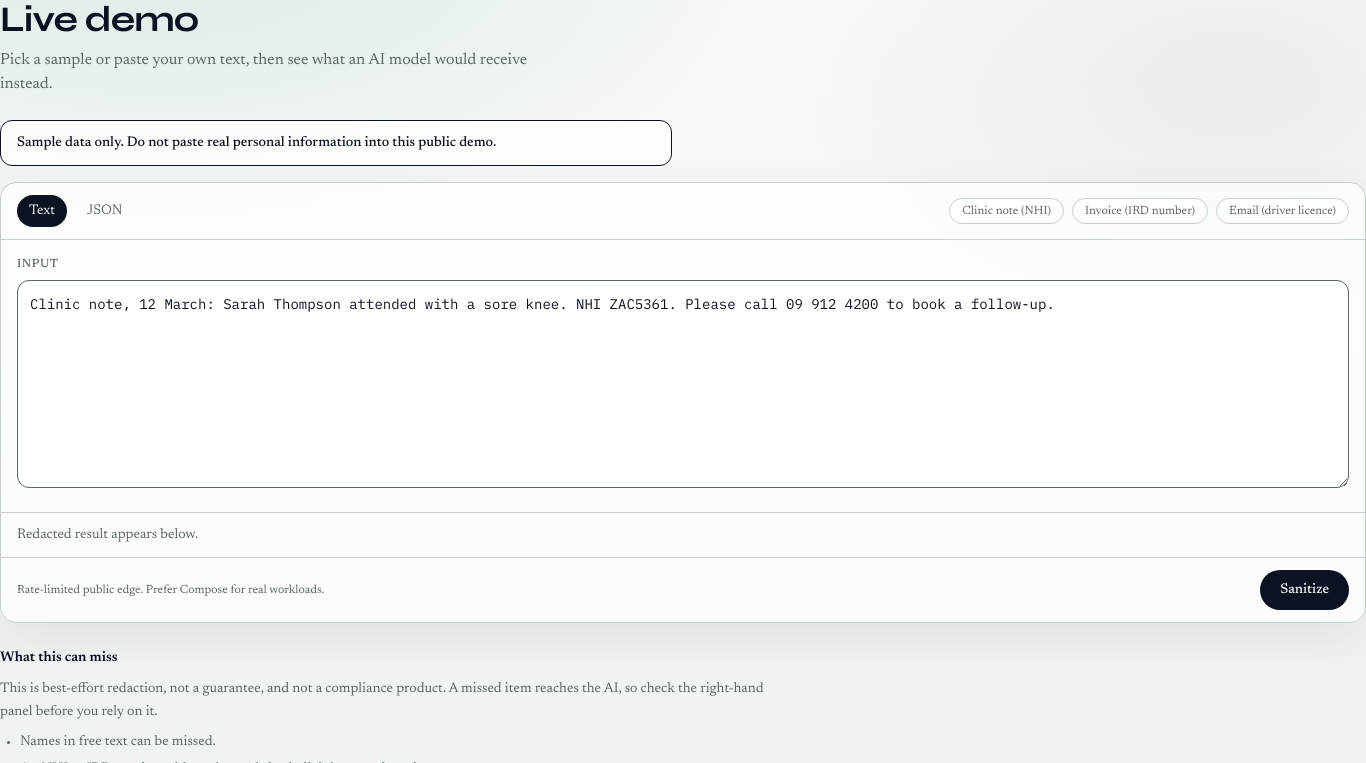
Test: Playground › shows both panels and announces what was removed on success
Replace the text in the text box labelled "Input" with "Clinic note, 12 March: Sarah Thompson attended." at (683, 384), box left=17, top=280, right=1349, bottom=488
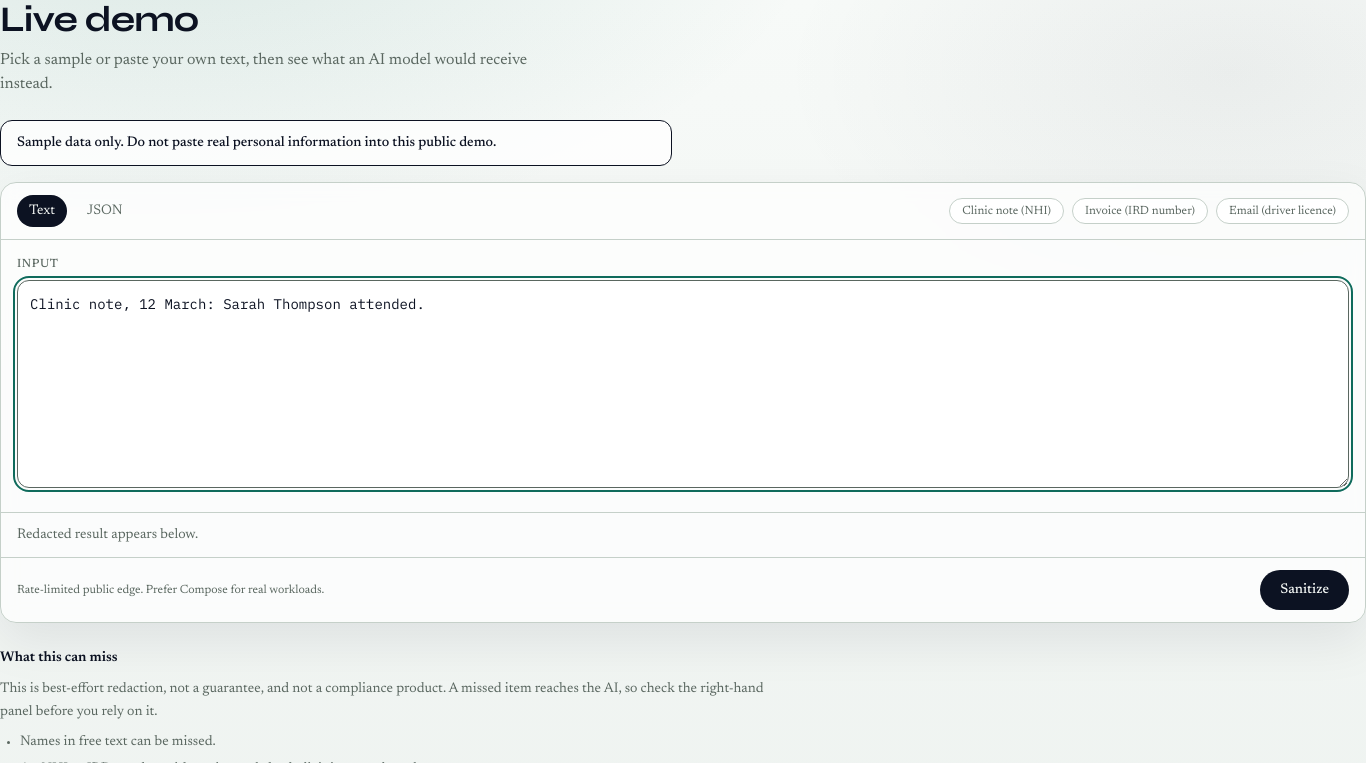
Click the button "Sanitize" at (1305, 590), box left=1260, top=570, right=1349, bottom=610
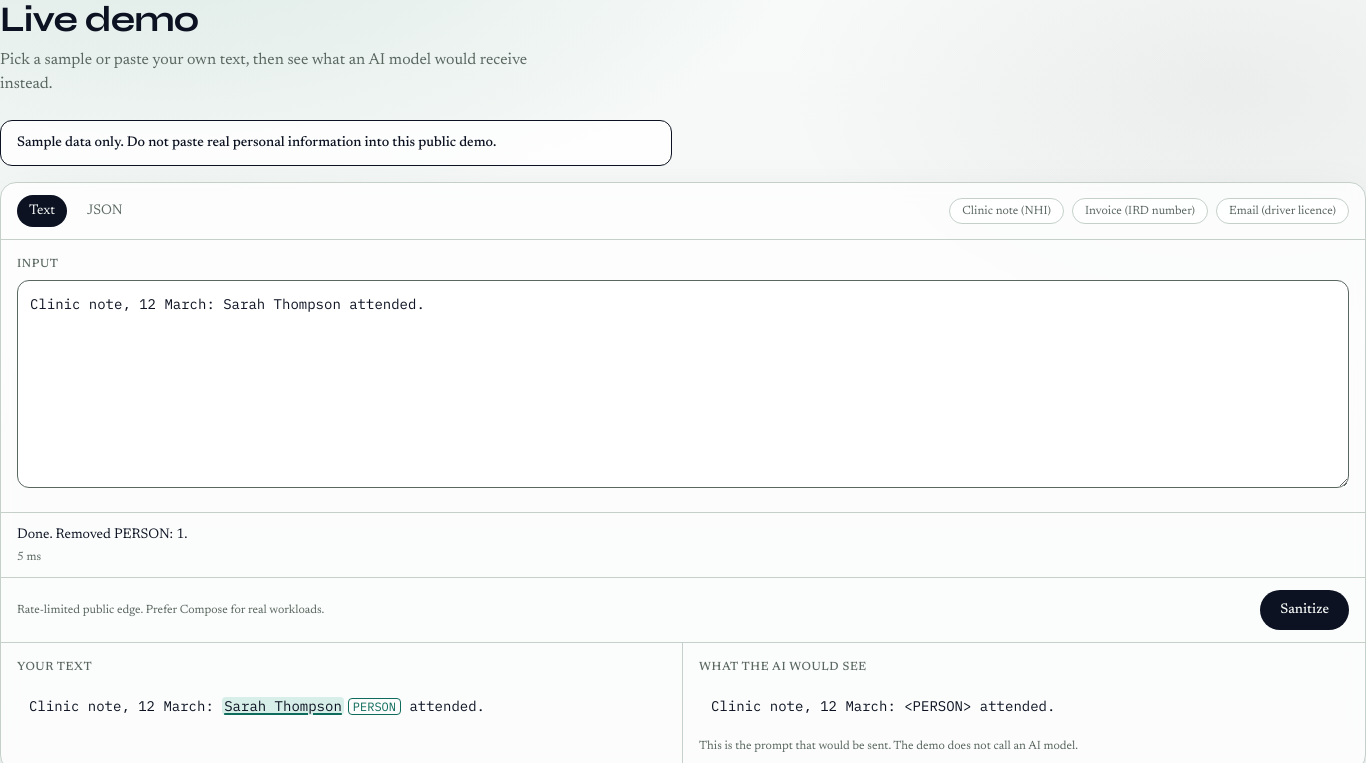
Expected: the message shows "Removed PERSON: 1", left=56, top=528, right=188, bottom=542
Expected: the heading "Your text" is shown, left=17, top=661, right=92, bottom=673
Expected: the heading "What the AI would see" is shown, left=699, top=661, right=867, bottom=673
